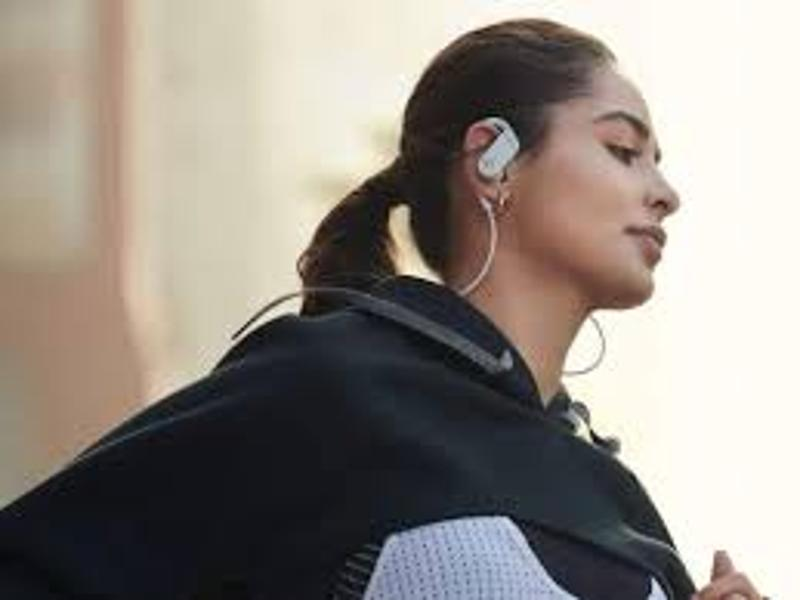headphone: (479, 130, 520, 185)
